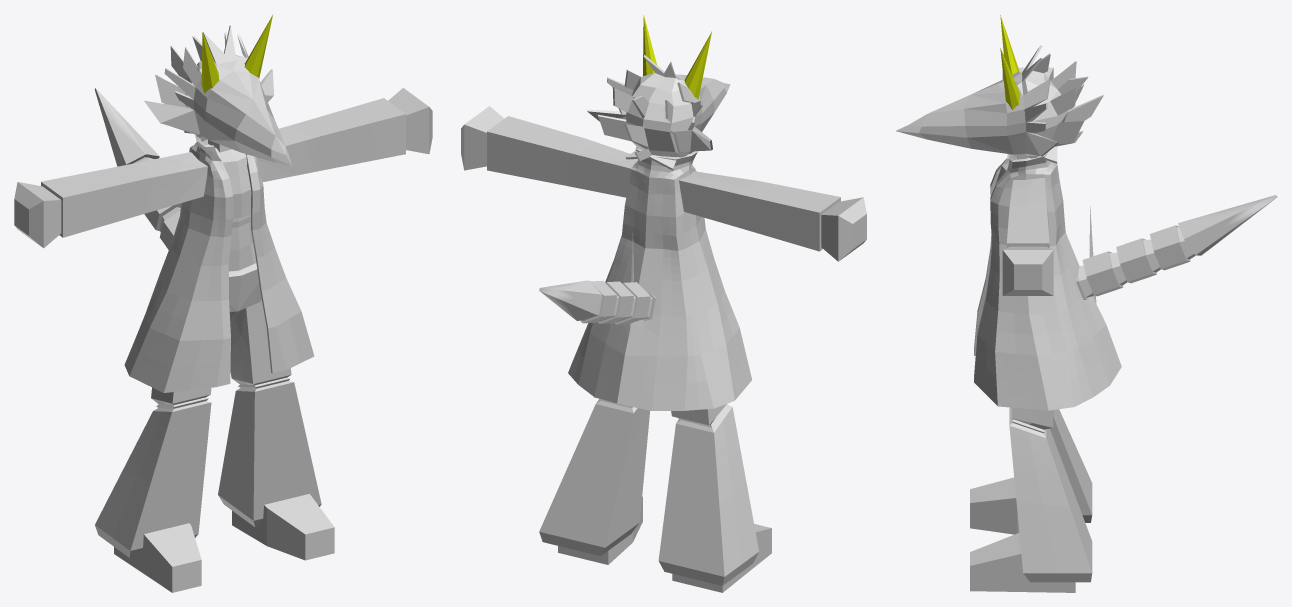
Rendered from DRONE2.fbx.
3 views of the same model, side by side, from view 1: azimuth 30°, elevation 25°; view 2: azimuth 150°, elevation 25°; view 3: azimuth 270°, elevation 25° (orthographic). The views are drawn at different scales.
Visible parts, largest first — view 1: torso.001, helmet.001, hair.001, horns.001; view 2: torso.001, hair.001, helmet.001, horns.001; view 3: torso.001, helmet.001, hair.001, horns.001.
Boxes of the visible parts, box(x1,y1,x2,y2) form: torso.001: box(14, 88, 432, 592); helmet.001: box(194, 60, 291, 165); hair.001: box(144, 25, 273, 137); horns.001: box(201, 15, 272, 93); torso.001: box(461, 106, 866, 592); hair.001: box(586, 55, 712, 170); helmet.001: box(675, 74, 730, 131); horns.001: box(643, 15, 711, 99); torso.001: box(970, 67, 1277, 592); helmet.001: box(896, 72, 1026, 154); hair.001: box(1022, 45, 1103, 163); horns.001: box(1000, 15, 1020, 109).
Bounding box in the file's own units: 1.93 × 2.47 × 1.64.
